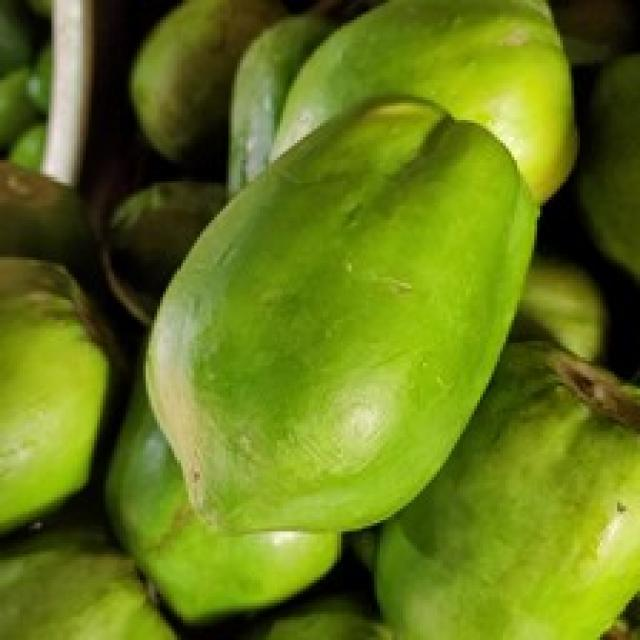Pepaya unrippen: (145, 93, 544, 540)
